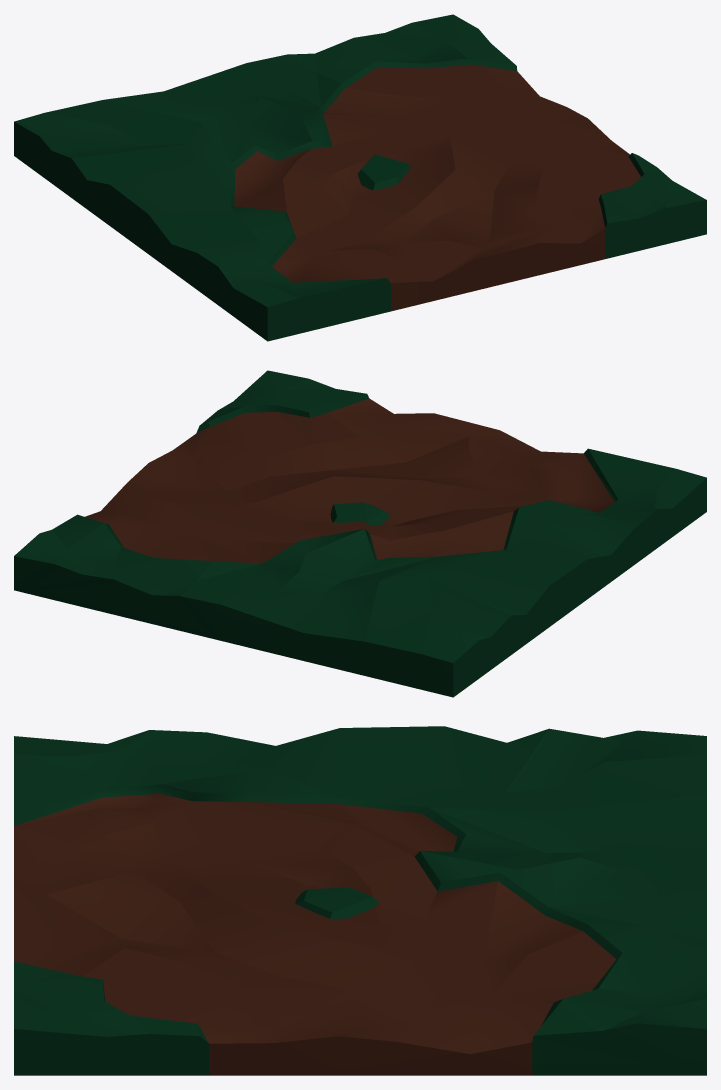
Rendered from Ground_Path_Turn_LU.fbx.
The picture shows the model from 3 angles, top to bottom: view 1: azimuth 30°, elevation 25°; view 2: azimuth 150°, elevation 25°; view 3: azimuth 270°, elevation 25°; orthographic projection. The views are drawn at different scales.
Visible parts, largest first — view 1: Ground_Path_Turn_LU; view 2: Ground_Path_Turn_LU; view 3: Ground_Path_Turn_LU.
Boxes of the visible parts, x1=… form: Ground_Path_Turn_LU: x1=14, y1=14, x2=706, y2=341; Ground_Path_Turn_LU: x1=14, y1=370, x2=706, y2=697; Ground_Path_Turn_LU: x1=14, y1=726, x2=706, y2=1075.
Bounding box in the file's own units: 147 × 14.69 × 147.
